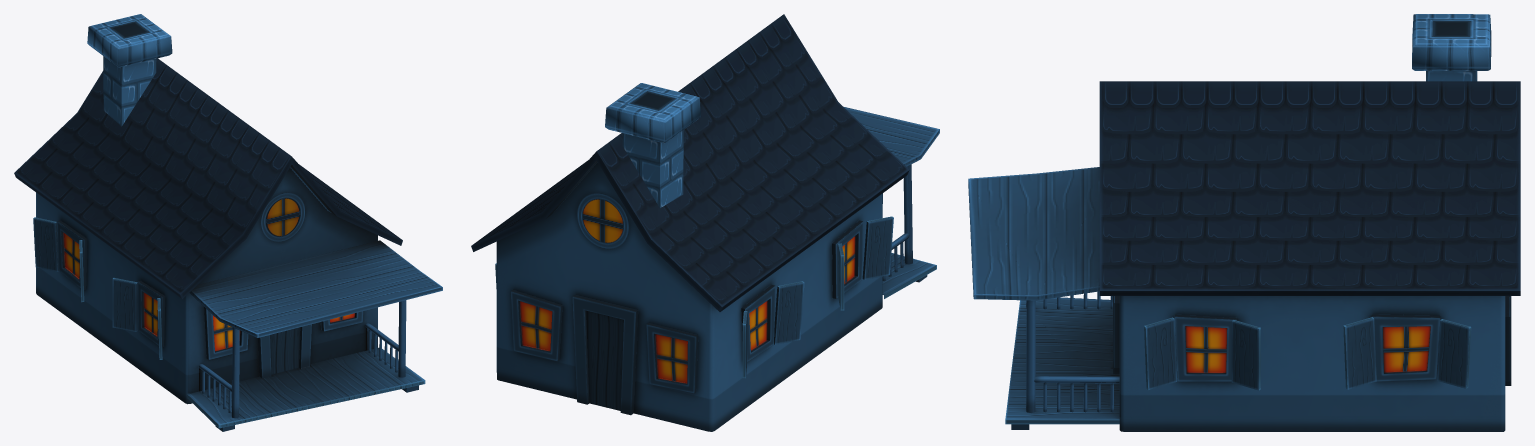
File: House3.FBX
The picture shows the model from 3 angles, left to right: view 1: azimuth 30°, elevation 25°; view 2: azimuth 150°, elevation 25°; view 3: azimuth 270°, elevation 25°; orthographic projection. The views are drawn at different scales.
Visible parts, largest first — view 1: House3; view 2: House3; view 3: House3.
Part boxes in pixels (x1,y1,x2,y2): House3: [14, 14, 442, 431]; House3: [471, 14, 939, 431]; House3: [968, 14, 1520, 431].
Bounding box in the file's own units: 146 × 158 × 240.
